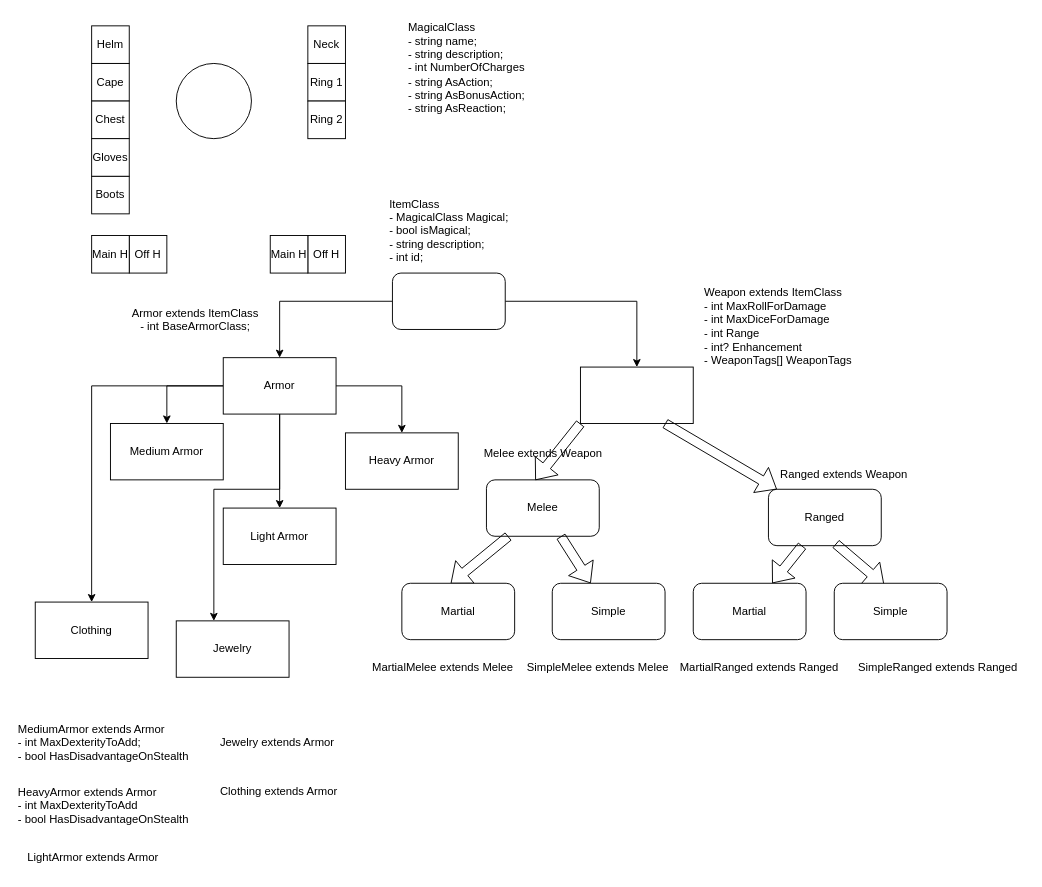
This 1042x887 diagram has some shape labels left out. Here are the shapes that lost their labels. From the top down, the box of each, then its label:
(175, 63, 251, 139): Char Icon
(392, 272, 505, 329): Item
(580, 366, 693, 423): Weapon
